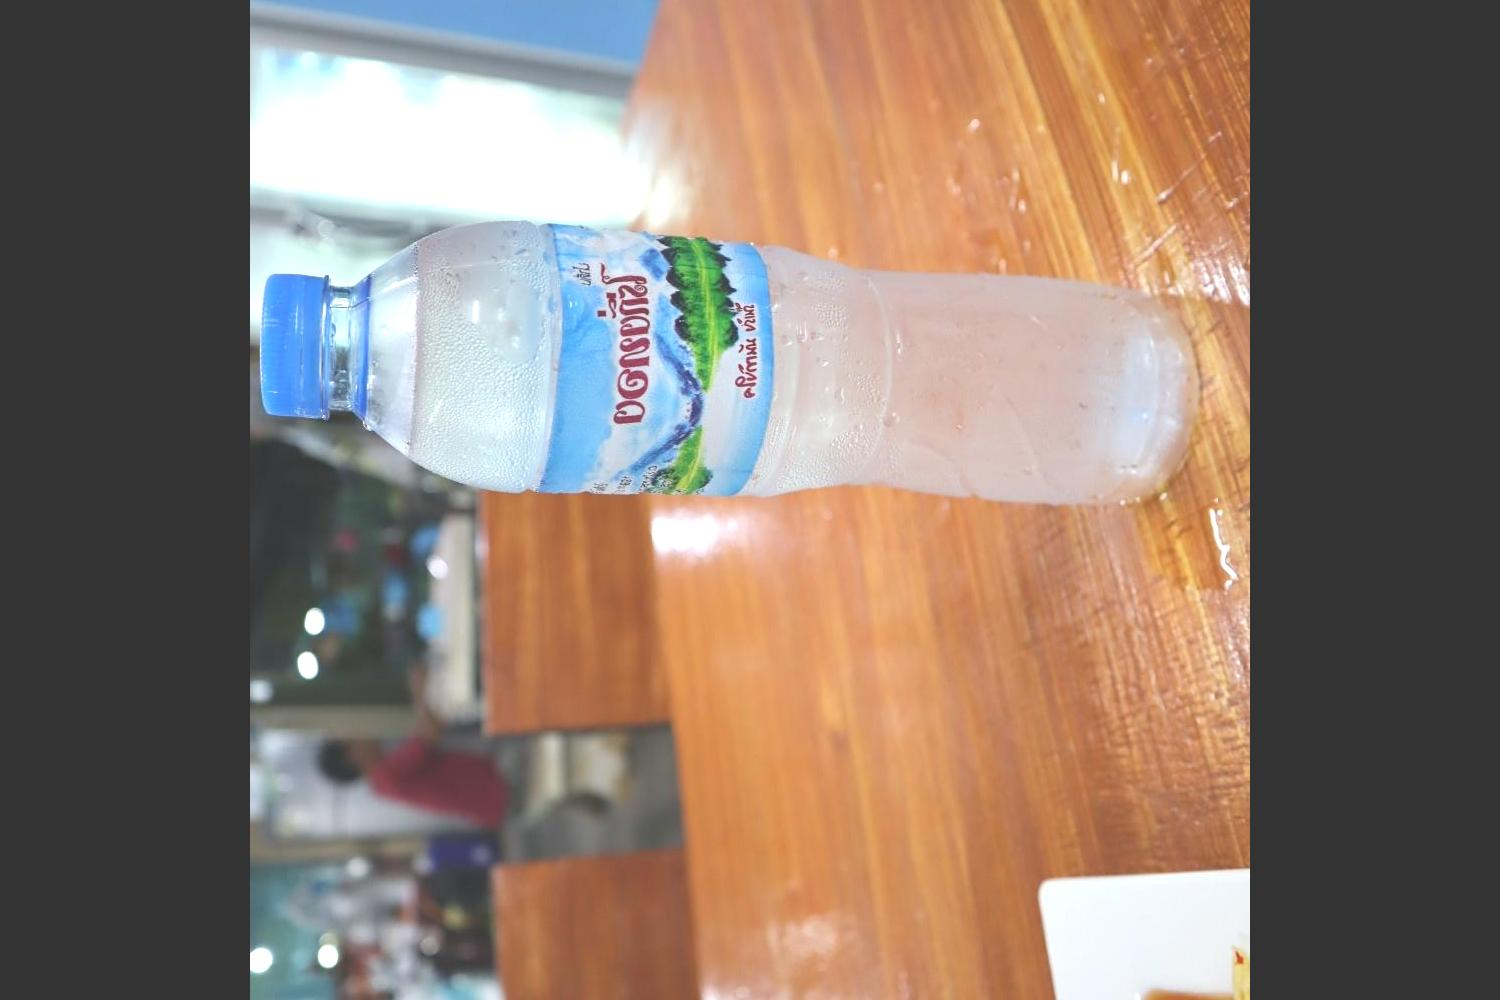bottle: (254, 192, 1205, 529)
